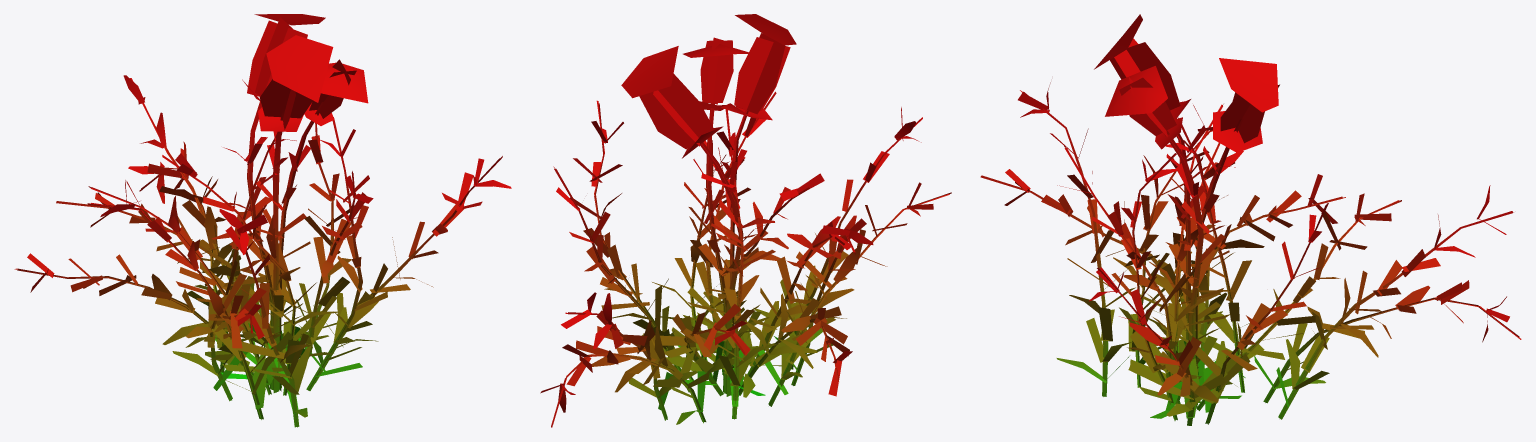
File: Var5_LOD3.fbx
The picture shows the model from 3 angles, left to right: view 1: azimuth 30°, elevation 25°; view 2: azimuth 150°, elevation 25°; view 3: azimuth 270°, elevation 25°; orthographic projection. The views are drawn at different scales.
Visible parts, largest first — view 1: _7l3p_Var5_LOD3; view 2: _7l3p_Var5_LOD3; view 3: _7l3p_Var5_LOD3.
Boxes of the visible parts, left/top/right/bottom form: _7l3p_Var5_LOD3: left=14, top=14, right=511, bottom=427; _7l3p_Var5_LOD3: left=540, top=14, right=951, bottom=427; _7l3p_Var5_LOD3: left=980, top=14, right=1521, bottom=425.
Size of the model in its own units: 23.57 by 22.58 by 28.62.
